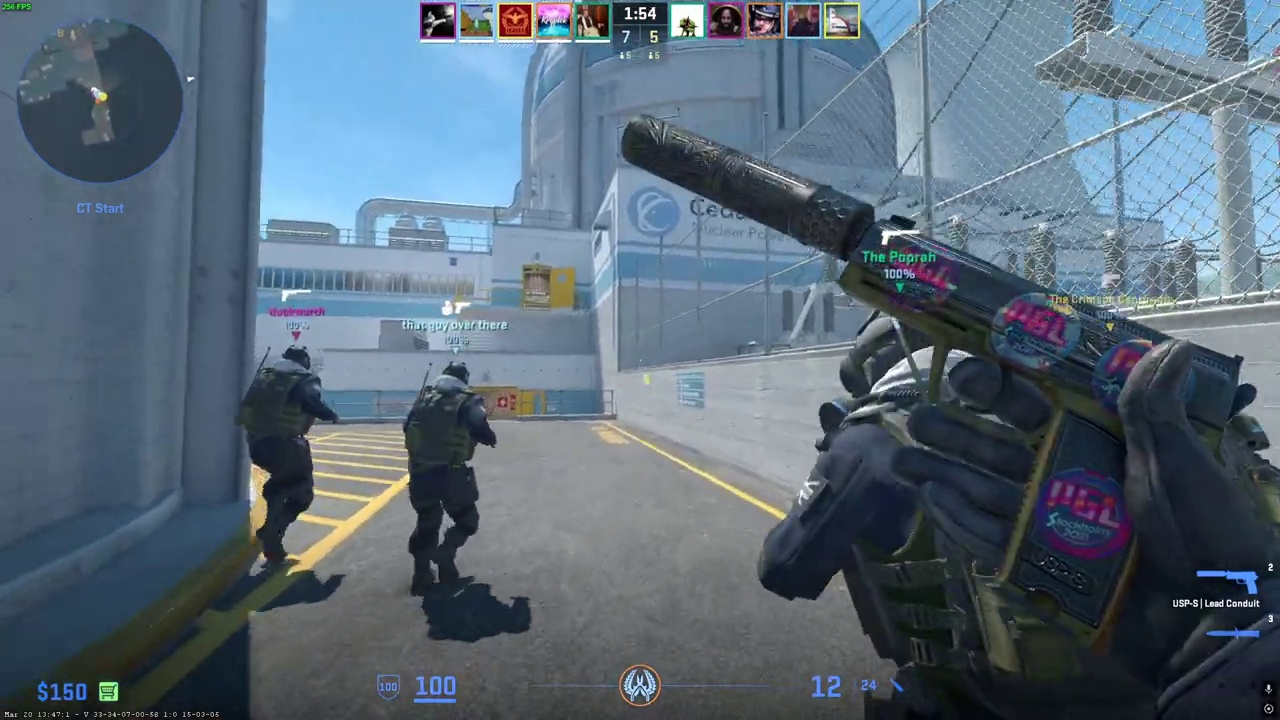CT: (785, 309, 1024, 720), (403, 360, 497, 593), (239, 344, 336, 563)
